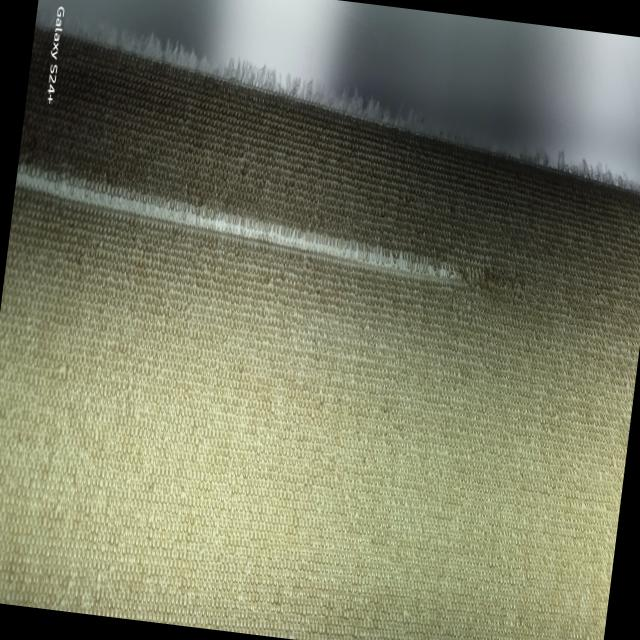Warp_Weft: (7, 158, 470, 296)
